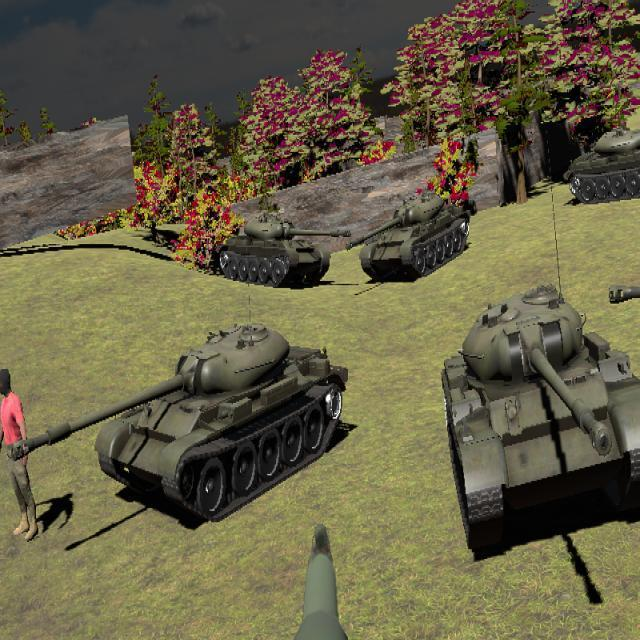Human: (0, 364, 42, 542)
Tank: (2, 321, 351, 522), (441, 283, 640, 553), (346, 191, 474, 282), (213, 215, 353, 290), (564, 127, 640, 206)
